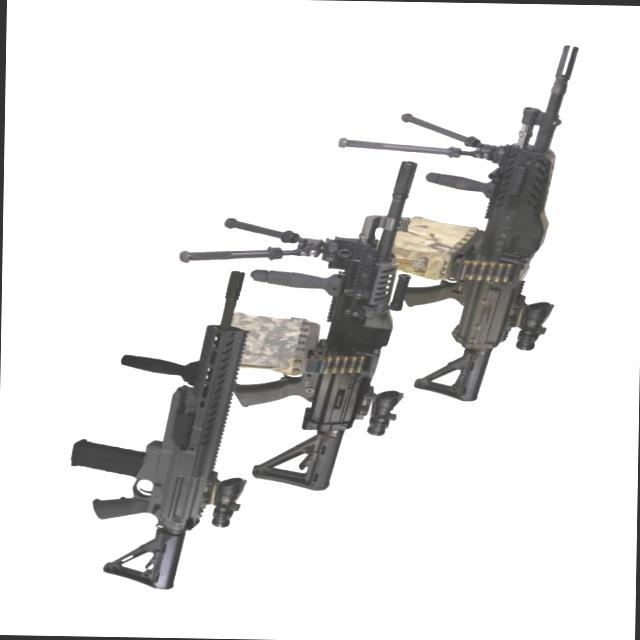long weapon: (408, 21, 631, 434), (253, 144, 445, 513), (88, 255, 269, 605)
